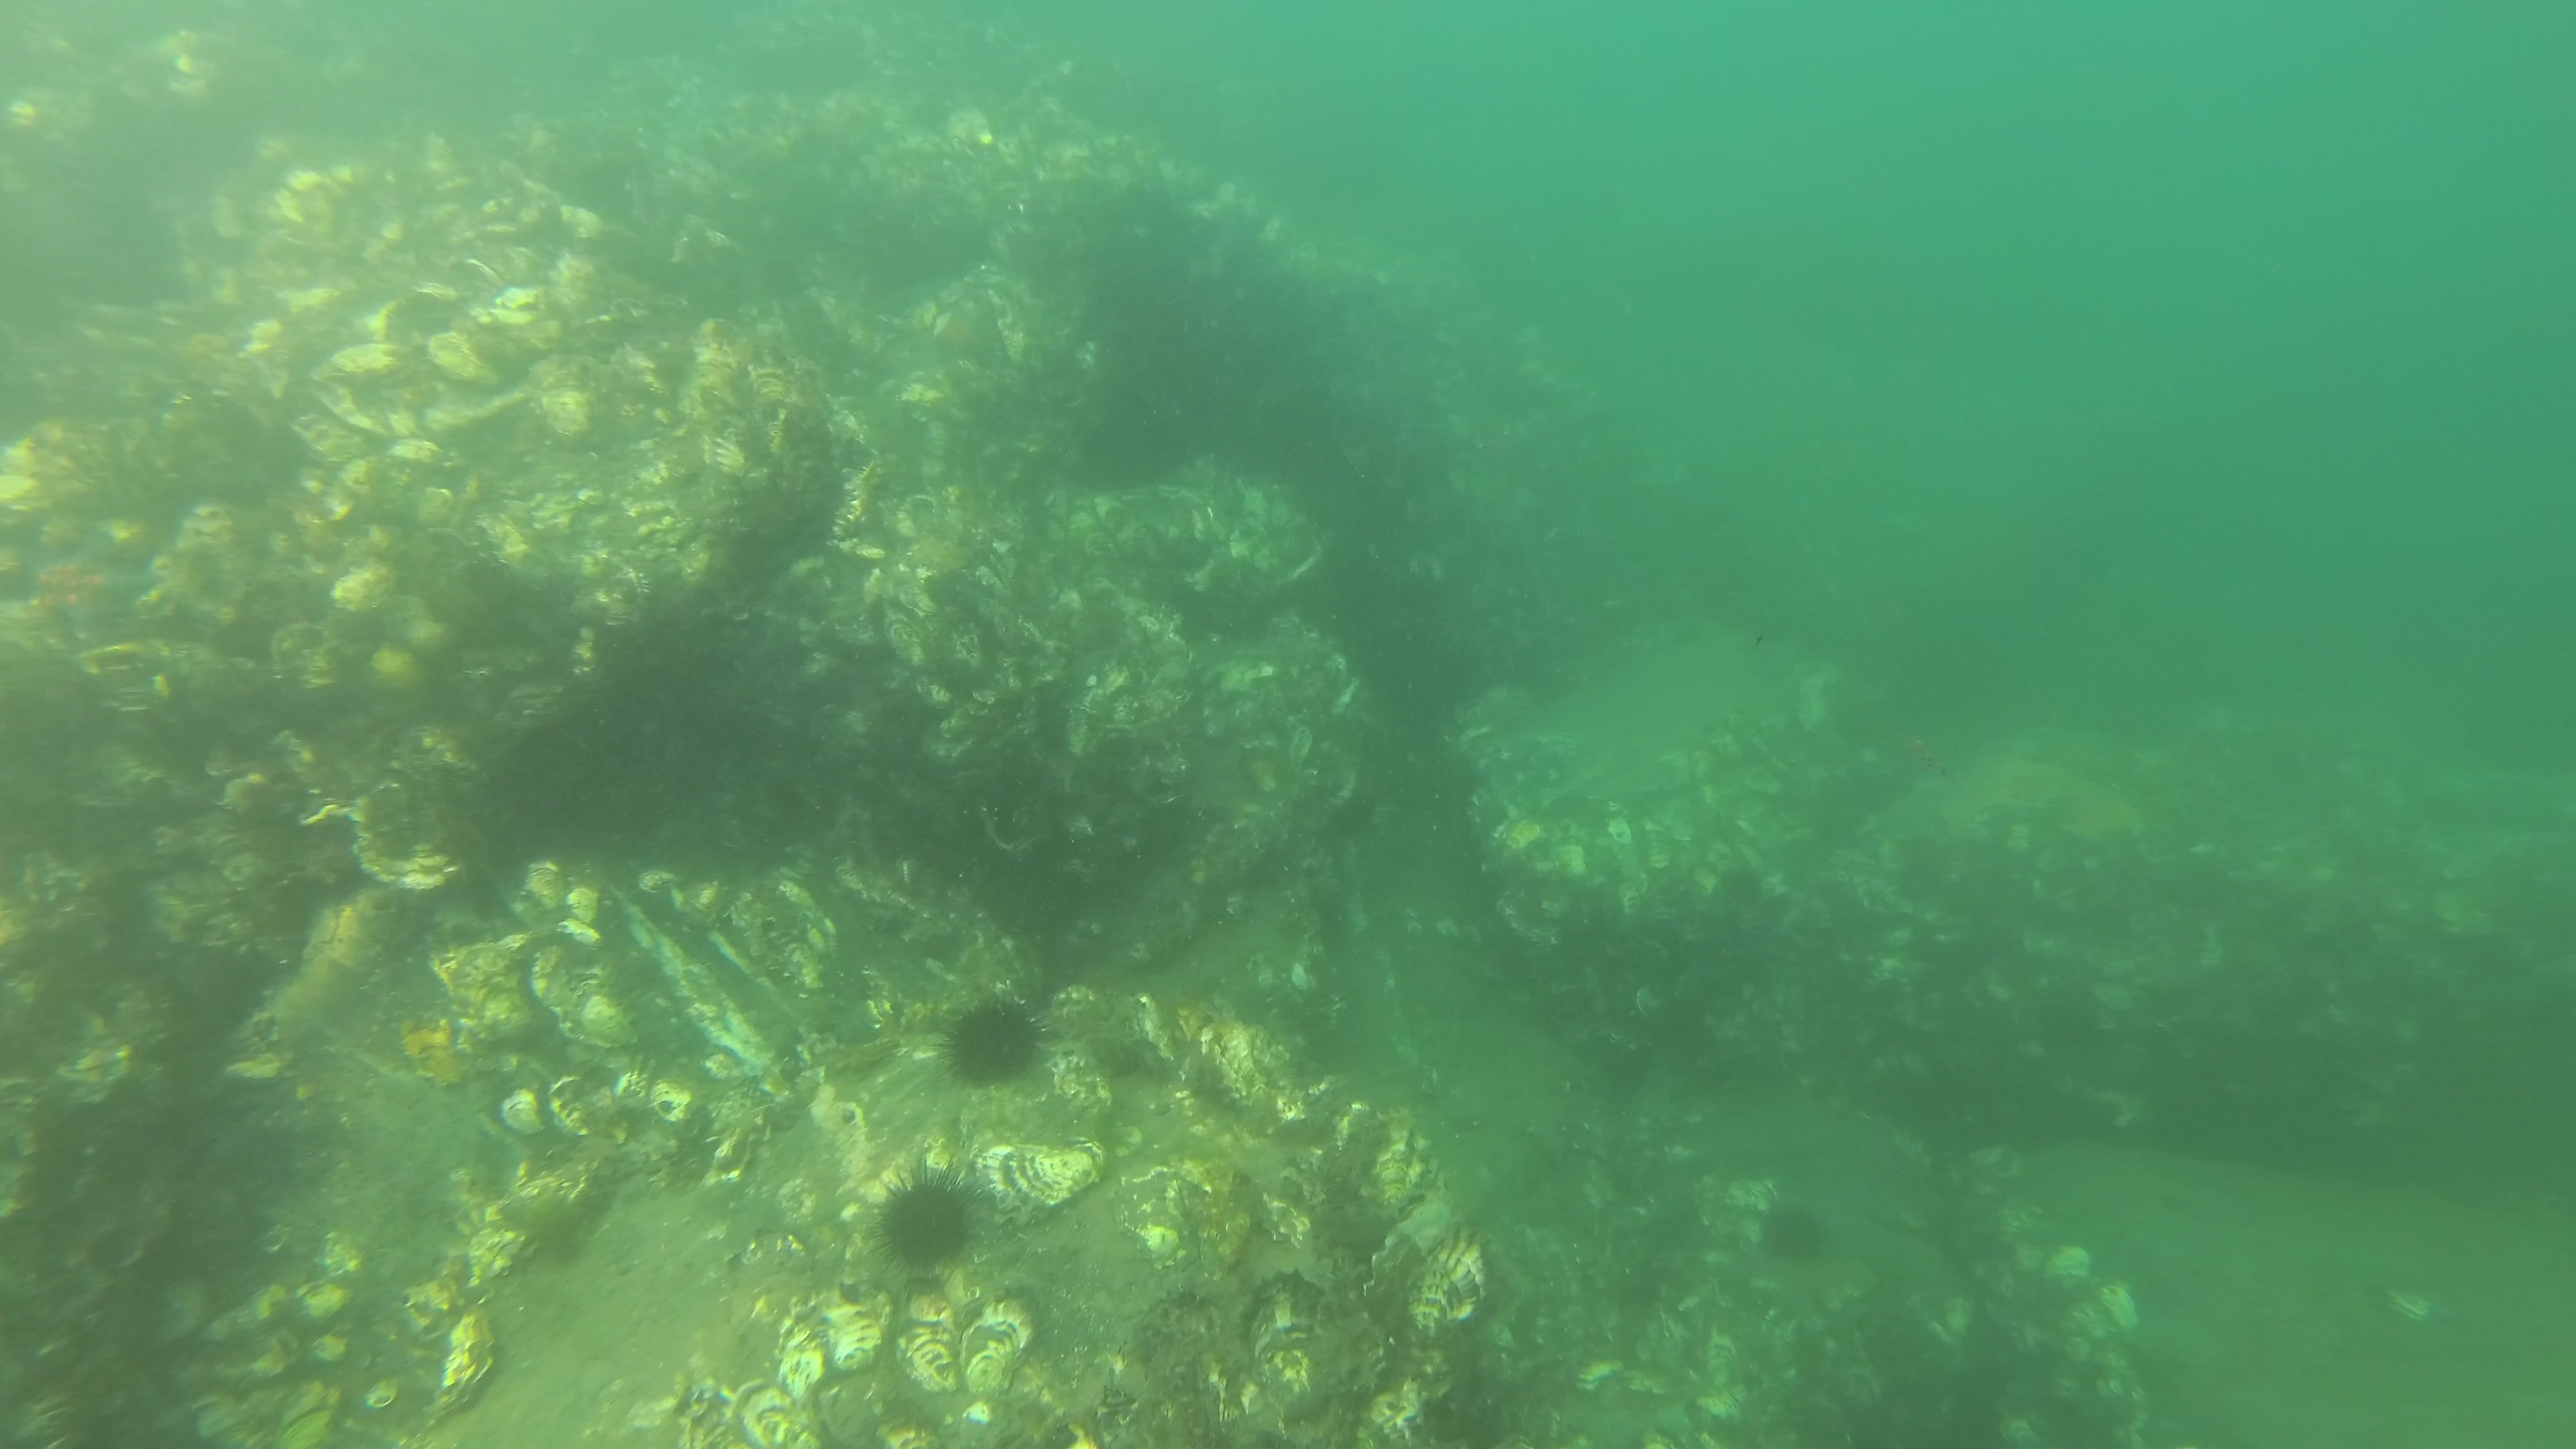echinus: (872, 1169, 987, 1284), (941, 1000, 1051, 1088), (1759, 1203, 1828, 1265)
starfish: (27, 543, 154, 637), (927, 308, 989, 364)
